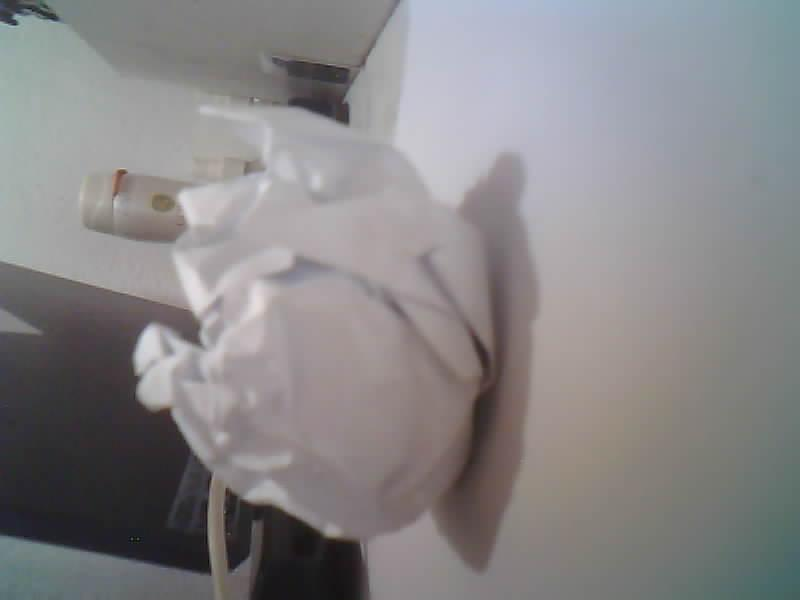biodegradable: (133, 106, 498, 540), (306, 329, 316, 342)
